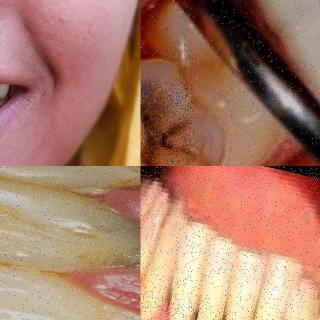Gum Swelling: (78, 166, 140, 320)
calculus: (176, 308, 208, 320)
cavities: (140, 68, 212, 166)
plaque: (37, 213, 141, 277), (50, 166, 140, 203), (53, 284, 141, 320)
